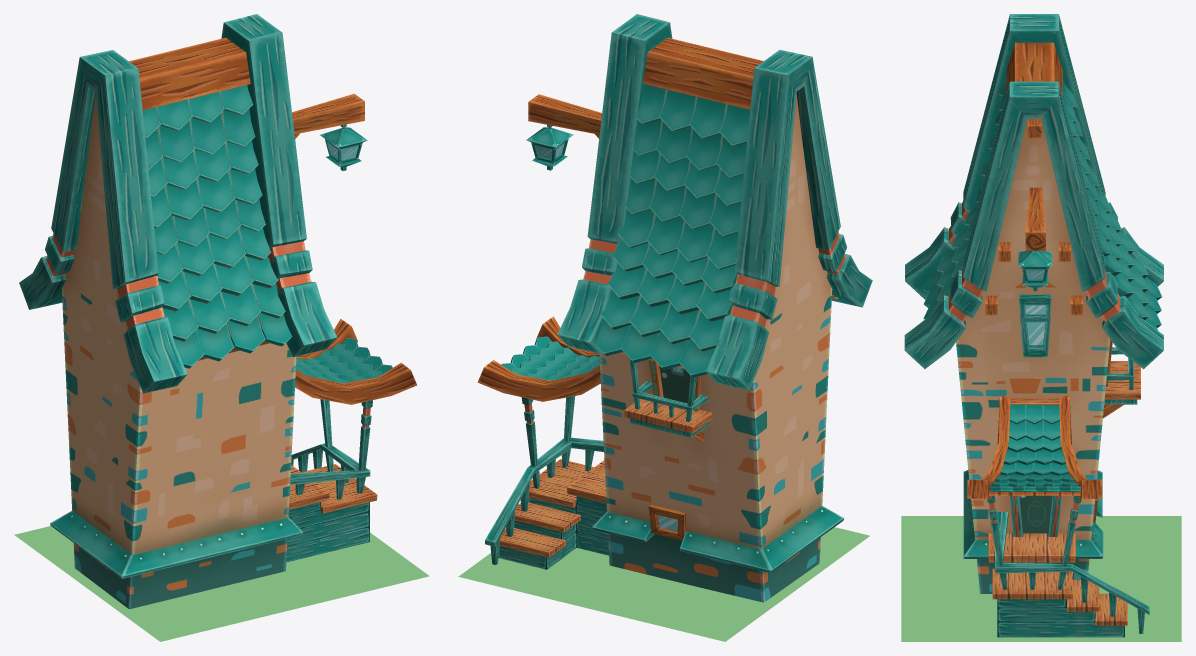
File: low_poly_sweet_home.glb
The picture shows the model from 3 angles, left to right: view 1: azimuth 30°, elevation 25°; view 2: azimuth 150°, elevation 25°; view 3: azimuth 270°, elevation 25°; orthographic projection. The views are drawn at different scales.
Parts seen in each view (by area): view 1: polySurface1, polySurface159, polySurface8, pPlane2, polySurface35, polySurface7, polySurface12, polySurface20, polySurface29, polySurface15, polySurface10, polySurface25 (+34 smaller); view 2: polySurface1, polySurface159, pPlane2, polySurface8, polySurface7, polySurface35, polySurface12, polySurface158, polySurface5, polySurface29, polySurface15, polySurface10 (+44 smaller); view 3: polySurface1, pPlane2, polySurface8, polySurface159, polySurface12, polySurface11, polySurface7, polySurface10, polySurface35, polySurface15, polySurface20, polySurface158 (+9 smaller).
Boxes of the visible parts, x1=… form: polySurface1: x1=61, y1=93, x2=296, y2=609; polySurface159: x1=19, y1=50, x2=187, y2=393; polySurface8: x1=221, y1=14, x2=337, y2=357; pPlane2: x1=14, y1=526, x2=429, y2=641; polySurface35: x1=50, y1=511, x2=303, y2=578; polySurface7: x1=129, y1=37, x2=250, y2=110; polySurface12: x1=286, y1=502, x2=369, y2=562; polySurface20: x1=295, y1=362, x2=416, y2=404; polySurface29: x1=292, y1=93, x2=364, y2=134; polySurface15: x1=290, y1=443, x2=370, y2=485; polySurface10: x1=302, y1=464, x2=377, y2=513; polySurface25: x1=320, y1=127, x2=367, y2=167; polySurface1: x1=599, y1=94, x2=832, y2=602; polySurface159: x1=705, y1=49, x2=872, y2=390; pPlane2: x1=458, y1=527, x2=869, y2=641; polySurface8: x1=557, y1=14, x2=672, y2=354; polySurface7: x1=643, y1=37, x2=763, y2=109; polySurface35: x1=592, y1=506, x2=844, y2=572; polySurface12: x1=498, y1=496, x2=608, y2=569; polySurface158: x1=477, y1=360, x2=600, y2=401; polySurface5: x1=624, y1=399, x2=712, y2=437; polySurface29: x1=528, y1=94, x2=601, y2=134; polySurface15: x1=485, y1=437, x2=603, y2=546; polySurface10: x1=528, y1=459, x2=593, y2=507; polySurface1: x1=956, y1=119, x2=1110, y2=593; pPlane2: x1=901, y1=516, x2=1181, y2=641; polySurface8: x1=904, y1=81, x2=1163, y2=369; polySurface159: x1=905, y1=14, x2=1163, y2=299; polySurface12: x1=997, y1=562, x2=1124, y2=637; polySurface11: x1=988, y1=533, x2=1075, y2=562; polySurface7: x1=1006, y1=42, x2=1062, y2=95; polySurface10: x1=992, y1=568, x2=1072, y2=599; polySurface35: x1=963, y1=470, x2=1103, y2=558; polySurface15: x1=995, y1=512, x2=1149, y2=614; polySurface20: x1=967, y1=396, x2=1010, y2=499; polySurface158: x1=1059, y1=396, x2=1102, y2=499.
Bounding box in the file's own units: 8.07 × 13.57 × 6.85.
Materials: 2 (1 with a texture image).
